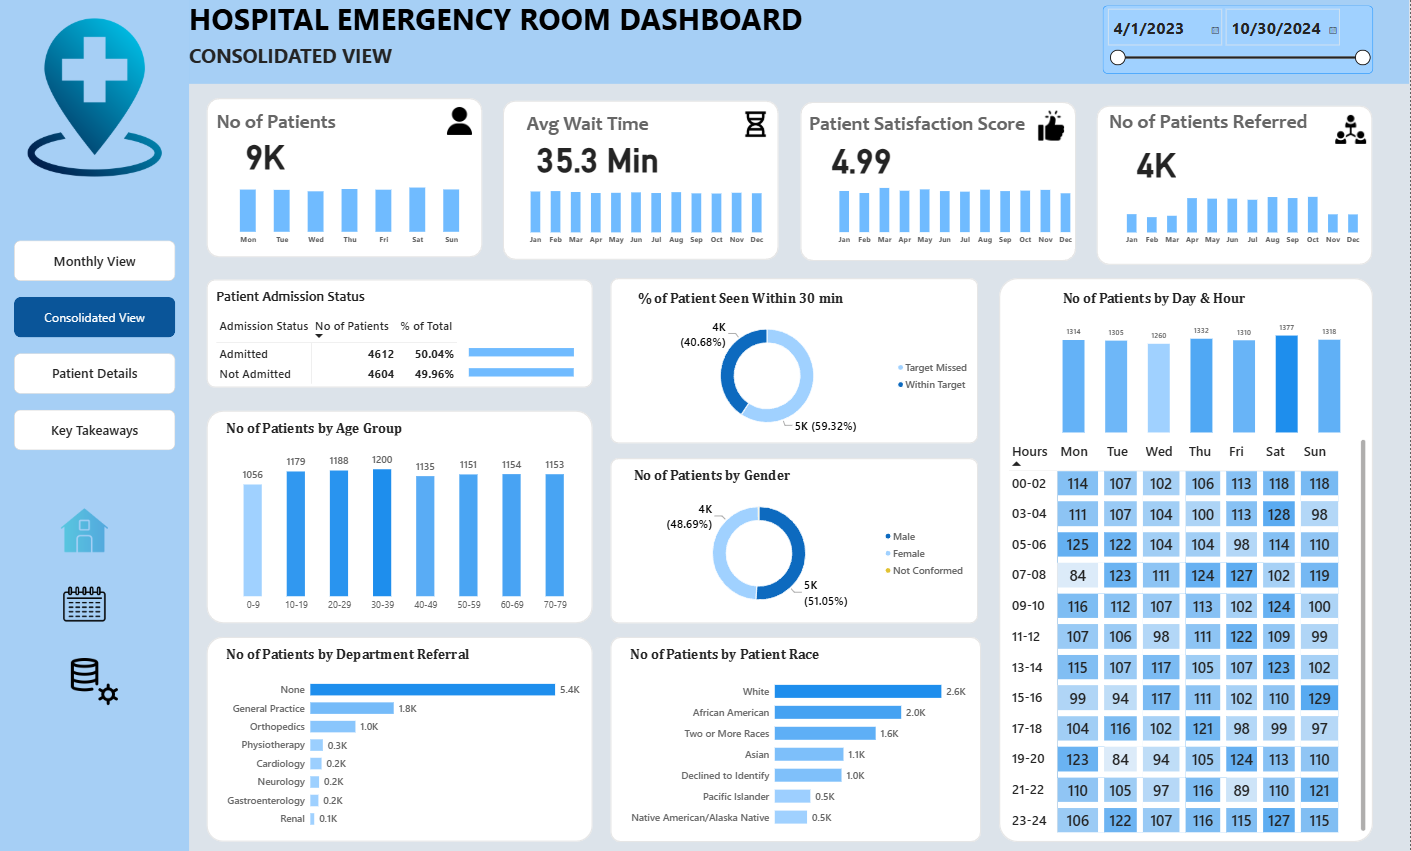

The page's visual inventory and layout, read from the dashboard file:
{"tool":"powerbi","page":{"name":"Consolidated View","canvas":[2300,1400],"ordinal":1},"visuals":[{"type":"shape","box":[0,0,310,1400.4],"z":0},{"type":"shape","box":[338.1,162.3,450,260],"z":1000},{"type":"shape","box":[310,0,1989.6,140],"z":2000},{"type":"textbox","box":[310,0,1031.1,66],"z":3000},{"type":"textbox","box":[310,70.4,386.9,50.6],"z":4000},{"type":"cardVisual","fields":{"Data":["Hospital ER_Data.No of Patients"]},"box":[385.8,195,183,127],"z":5000},{"type":"slicer","fields":{"Values":["Date Table.Date"]},"box":[1799.2,13,440.7,111.5],"z":6000},{"type":"textbox","box":[355.6,181.9,288,50.6],"z":7000},{"type":"columnChart","fields":{"Category":["Date Table.Day Name"],"Y":["Hospital ER_Data.No of Patients"]},"box":[355.2,280,435.5,142.6],"z":8000},{"type":"image","box":[0,33.2,312.7,259.2],"z":9000},{"type":"shape","box":[822.1,167.9,450,260],"z":10000},{"type":"cardVisual","fields":{"Data":["Hospital ER_Data.Avg Wait Time"]},"box":[859.6,200.1,290.2,127.5],"z":11000},{"type":"textbox","box":[860.6,184.6,288,50.6],"z":12000},{"type":"columnChart","fields":{"Category":["Date Table.Month Name"],"Y":["Avg(Hospital ER_Data.Patient Waittime)"]},"box":[837.4,285.2,435.5,137.4],"z":13000},{"type":"shape","box":[1306.1,170.1,450,260],"z":14000},{"type":"cardVisual","fields":{"Data":["Hospital ER_Data.Satisfaction Score"]},"box":[1340.3,202.2,191.8,127],"z":15000},{"type":"textbox","box":[1321.3,184.7,371.5,48.4],"z":16000},{"type":"columnChart","fields":{"Category":["Date Table.Month Name"],"Y":["Hospital ER_Data.Satisfaction Score"]},"box":[1340.3,277.4,435.5,145.2],"z":17000},{"type":"shape","box":[1790.2,174.5,450,260],"z":18000},{"type":"cardVisual","fields":{"Data":["Hospital ER_Data.No of Patients Referred"]},"box":[1837.9,207.1,183,127],"z":19000},{"type":"textbox","box":[1809.5,181.5,396.6,38.9],"z":20000},{"type":"columnChart","fields":{"Category":["Date Table.Month Name"],"Y":["Hospital ER_Data.No of Patients Referred"]},"box":[1809.5,274.8,435.5,147.8],"z":21000},{"type":"shape","box":[337.7,457.7,630,177],"z":22000},{"type":"pivotTable","title":"Patient Admission Status","fields":{"Rows":["Hospital ER_Data.Admission Status"],"Values":["Hospital ER_Data.No of Patients1","Hospital ER_Data.No of Patients"]},"box":[337.7,457.7,613.9,195.3],"z":23000},{"type":"barChart","fields":{"Category":["Hospital ER_Data.Admission Status"],"Y":["Hospital ER_Data.No of Patients"]},"box":[750,532.5,255,120],"z":24000},{"type":"shape","box":[337.5,672.5,630,347.5],"z":25000},{"type":"clusteredColumnChart","fields":{"Category":["Hospital ER_Data.Age Group"],"Y":["Hospital ER_Data.No of Patients"]},"box":[355,672.5,612.5,347.5],"z":26000},{"type":"shape","box":[337.5,1042.5,630,334.4],"z":27000},{"type":"clusteredBarChart","fields":{"Category":["Hospital ER_Data.Department Referral"],"Y":["Hospital ER_Data.No of Patients"]},"box":[355,1042.5,612.5,335],"z":28000},{"type":"image","box":[90.1,949,98.9,76.9],"z":29000},{"type":"image","box":[105.5,1077.3,98.9,76.9],"z":30000},{"type":"image","box":[90.1,828.8,98.9,76.9],"z":31000},{"type":"shape","box":[996.8,457.1,600,270],"z":32000},{"type":"donutChart","title":"% of Patient Seen Within 30 min","fields":{"Category":["Hospital ER_Data.Waittime Status"],"Y":["Hospital ER_Data.No of Patients"]},"box":[1024.8,460.5,578.4,269.5],"z":33000},{"type":"shape","box":[996.8,750.8,600,270],"z":34000},{"type":"donutChart","title":"No of Patients by Gender","fields":{"Category":["Hospital ER_Data.Patient Gender"],"Y":["Hospital ER_Data.No of Patients"]},"box":[1019.6,751.1,578.4,269.5],"z":35000},{"type":"shape","box":[997.5,1042.5,605,335],"z":36000},{"type":"clusteredBarChart","fields":{"Category":["Hospital ER_Data.Patient Race"],"Y":["Hospital ER_Data.No of Patients"]},"box":[1012.5,1042.5,585,335],"z":37000},{"type":"shape","box":[1630,457.5,610,920],"z":38000},{"type":"pivotTable","fields":{"Columns":["Date Table.Day Name"],"Rows":["Hospital ER_Data.Waittime Interval"],"Values":["Hospital ER_Data.No of Patients"]},"box":[1630.7,705.1,614.4,671.4],"z":39000},{"type":"columnChart","title":"No of Patients by Day & Hour","fields":{"Category":["Date Table.Day Name"],"Y":["Hospital ER_Data.No of Patients"]},"box":[1718.8,461.5,487.4,264.4],"z":40000},{"type":"image","box":[727.7,175.9,46.2,50.6],"z":41000},{"type":"image","box":[1200.4,178.1,66,57.2],"z":42000},{"type":"image","box":[1692.8,178.1,48.4,61.6],"z":43000},{"type":"image","box":[2178.7,182.5,50.6,61.6],"z":44000},{"type":"pageNavigator","box":[24.2,395.7,263.8,342.5],"z":45000}]}

Visuals, with their boxes in screenshot pixels (x1, y1, x2, y2), scaled from the page's 2300x1400 canvas onto the 1411x851 screenshot:
shape: box=[0, 0, 190, 850]
shape: box=[207, 99, 483, 257]
shape: box=[190, 0, 1410, 85]
textbox: box=[190, 0, 823, 40]
textbox: box=[190, 43, 428, 74]
cardVisual - Hospital ER_Data.No of Patients: box=[237, 119, 349, 196]
slicer - Date Table.Date: box=[1104, 8, 1374, 76]
textbox: box=[218, 111, 395, 141]
columnChart - Date Table.Day Name x Hospital ER_Data.No of Patients: box=[218, 170, 485, 257]
image: box=[0, 20, 192, 178]
shape: box=[504, 102, 780, 260]
cardVisual - Hospital ER_Data.Avg Wait Time: box=[527, 122, 705, 199]
textbox: box=[528, 112, 705, 143]
columnChart - Date Table.Month Name x Avg(Hospital ER_Data.Patient Waittime): box=[514, 173, 781, 257]
shape: box=[801, 103, 1077, 261]
cardVisual - Hospital ER_Data.Satisfaction Score: box=[822, 123, 940, 200]
textbox: box=[811, 112, 1038, 142]
columnChart - Date Table.Month Name x Hospital ER_Data.Satisfaction Score: box=[822, 169, 1089, 257]
shape: box=[1098, 106, 1374, 264]
cardVisual - Hospital ER_Data.No of Patients Referred: box=[1128, 126, 1240, 203]
textbox: box=[1110, 110, 1353, 134]
columnChart - Date Table.Month Name x Hospital ER_Data.No of Patients Referred: box=[1110, 167, 1377, 257]
shape: box=[207, 278, 594, 386]
"Patient Admission Status" pivotTable: box=[207, 278, 584, 397]
barChart - Hospital ER_Data.Admission Status x Hospital ER_Data.No of Patients: box=[460, 324, 617, 397]
shape: box=[207, 409, 594, 620]
clusteredColumnChart - Hospital ER_Data.Age Group x Hospital ER_Data.No of Patients: box=[218, 409, 594, 620]
shape: box=[207, 634, 594, 837]
clusteredBarChart - Hospital ER_Data.Department Referral x Hospital ER_Data.No of Patients: box=[218, 634, 594, 837]
image: box=[55, 577, 116, 624]
image: box=[65, 655, 125, 702]
image: box=[55, 504, 116, 551]
shape: box=[612, 278, 980, 442]
"% of Patient Seen Within 30 min" donutChart: box=[629, 280, 984, 444]
shape: box=[612, 456, 980, 621]
"No of Patients by Gender" donutChart: box=[626, 457, 980, 620]
shape: box=[612, 634, 983, 837]
clusteredBarChart - Hospital ER_Data.Patient Race x Hospital ER_Data.No of Patients: box=[621, 634, 980, 837]
shape: box=[1000, 278, 1374, 837]
pivotTable - Date Table.Day Name x Hospital ER_Data.Waittime Interval: box=[1000, 429, 1377, 837]
"No of Patients by Day & Hour" columnChart: box=[1054, 281, 1353, 441]
image: box=[446, 107, 475, 138]
image: box=[736, 108, 777, 143]
image: box=[1038, 108, 1068, 146]
image: box=[1337, 111, 1368, 148]
pageNavigator: box=[15, 241, 177, 449]
